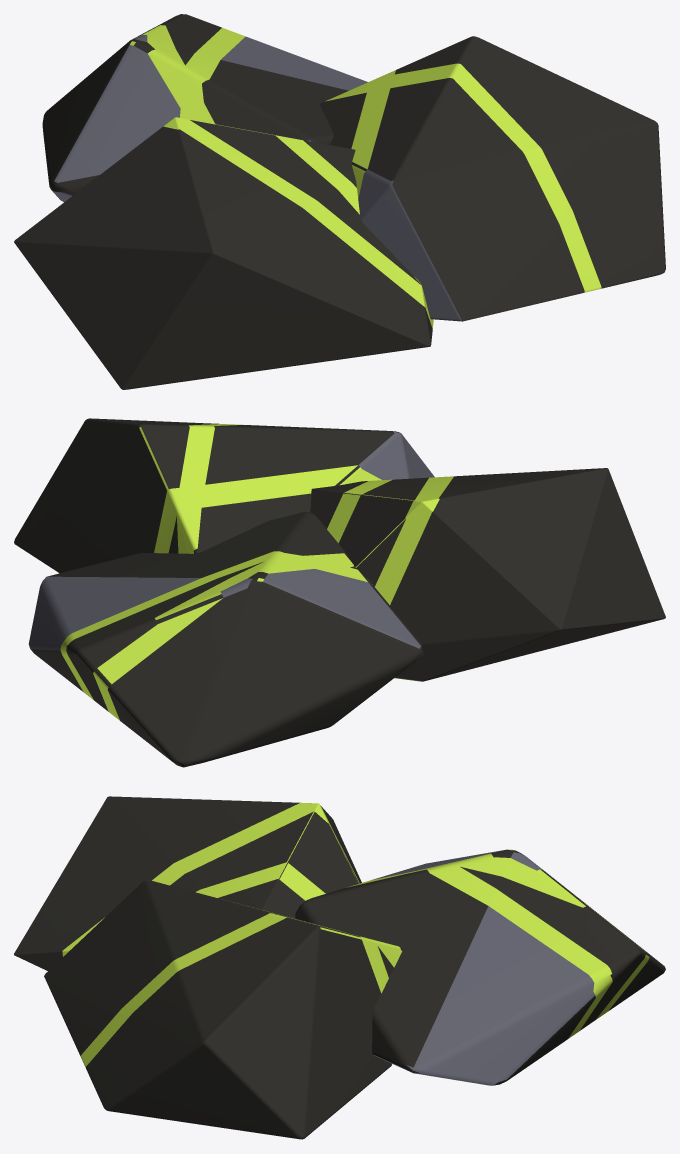
The model's file is minerai_uraninite_2.glb.
3 views of the same model, one above another, from view 1: azimuth 30°, elevation 25°; view 2: azimuth 150°, elevation 25°; view 3: azimuth 270°, elevation 25° (orthographic). The views are drawn at different scales.
Visible parts, largest first — view 1: minerai_pechblende.004, minerai_autunite.004, minerai_charbon_brillant.008; view 2: minerai_pechblende.004, minerai_autunite.004, minerai_charbon_brillant.008; view 3: minerai_pechblende.004, minerai_charbon_brillant.008, minerai_autunite.004.
Boxes of the visible parts, x1,y1,x2,y2 form: minerai_pechblende.004: (14, 14, 665, 389); minerai_autunite.004: (130, 25, 601, 328); minerai_charbon_brillant.008: (52, 35, 461, 320); minerai_pechblende.004: (14, 418, 665, 767); minerai_autunite.004: (60, 424, 453, 720); minerai_charbon_brillant.008: (28, 432, 434, 650); minerai_pechblende.004: (14, 796, 665, 1139); minerai_charbon_brillant.008: (146, 850, 594, 1085); minerai_autunite.004: (62, 802, 649, 1067).
Bounding box in the file's own units: 0.5119 × 0.1384 × 0.5376.
